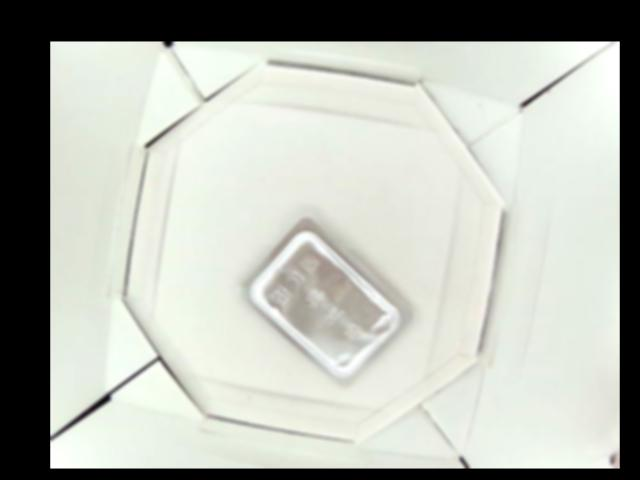Medicine: (242, 216, 405, 386)
